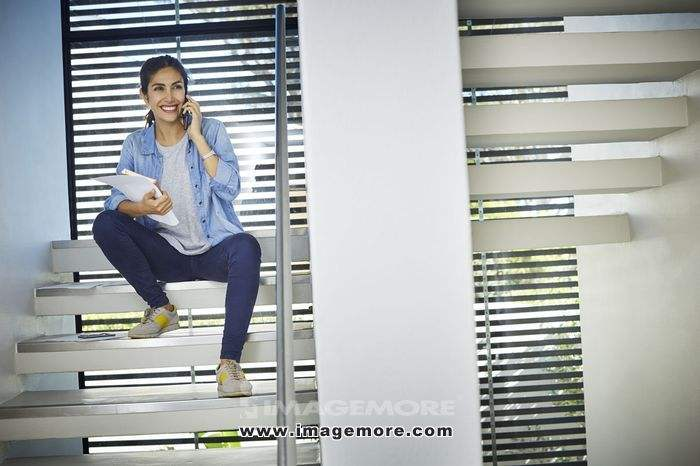talk: (152, 80, 202, 139)
